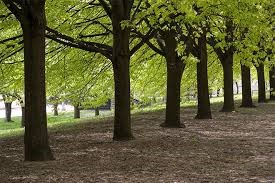tree: (22, 61, 54, 160), (112, 61, 133, 140), (164, 58, 181, 127), (195, 60, 211, 118), (222, 58, 233, 110), (241, 65, 253, 107), (256, 66, 265, 101)
